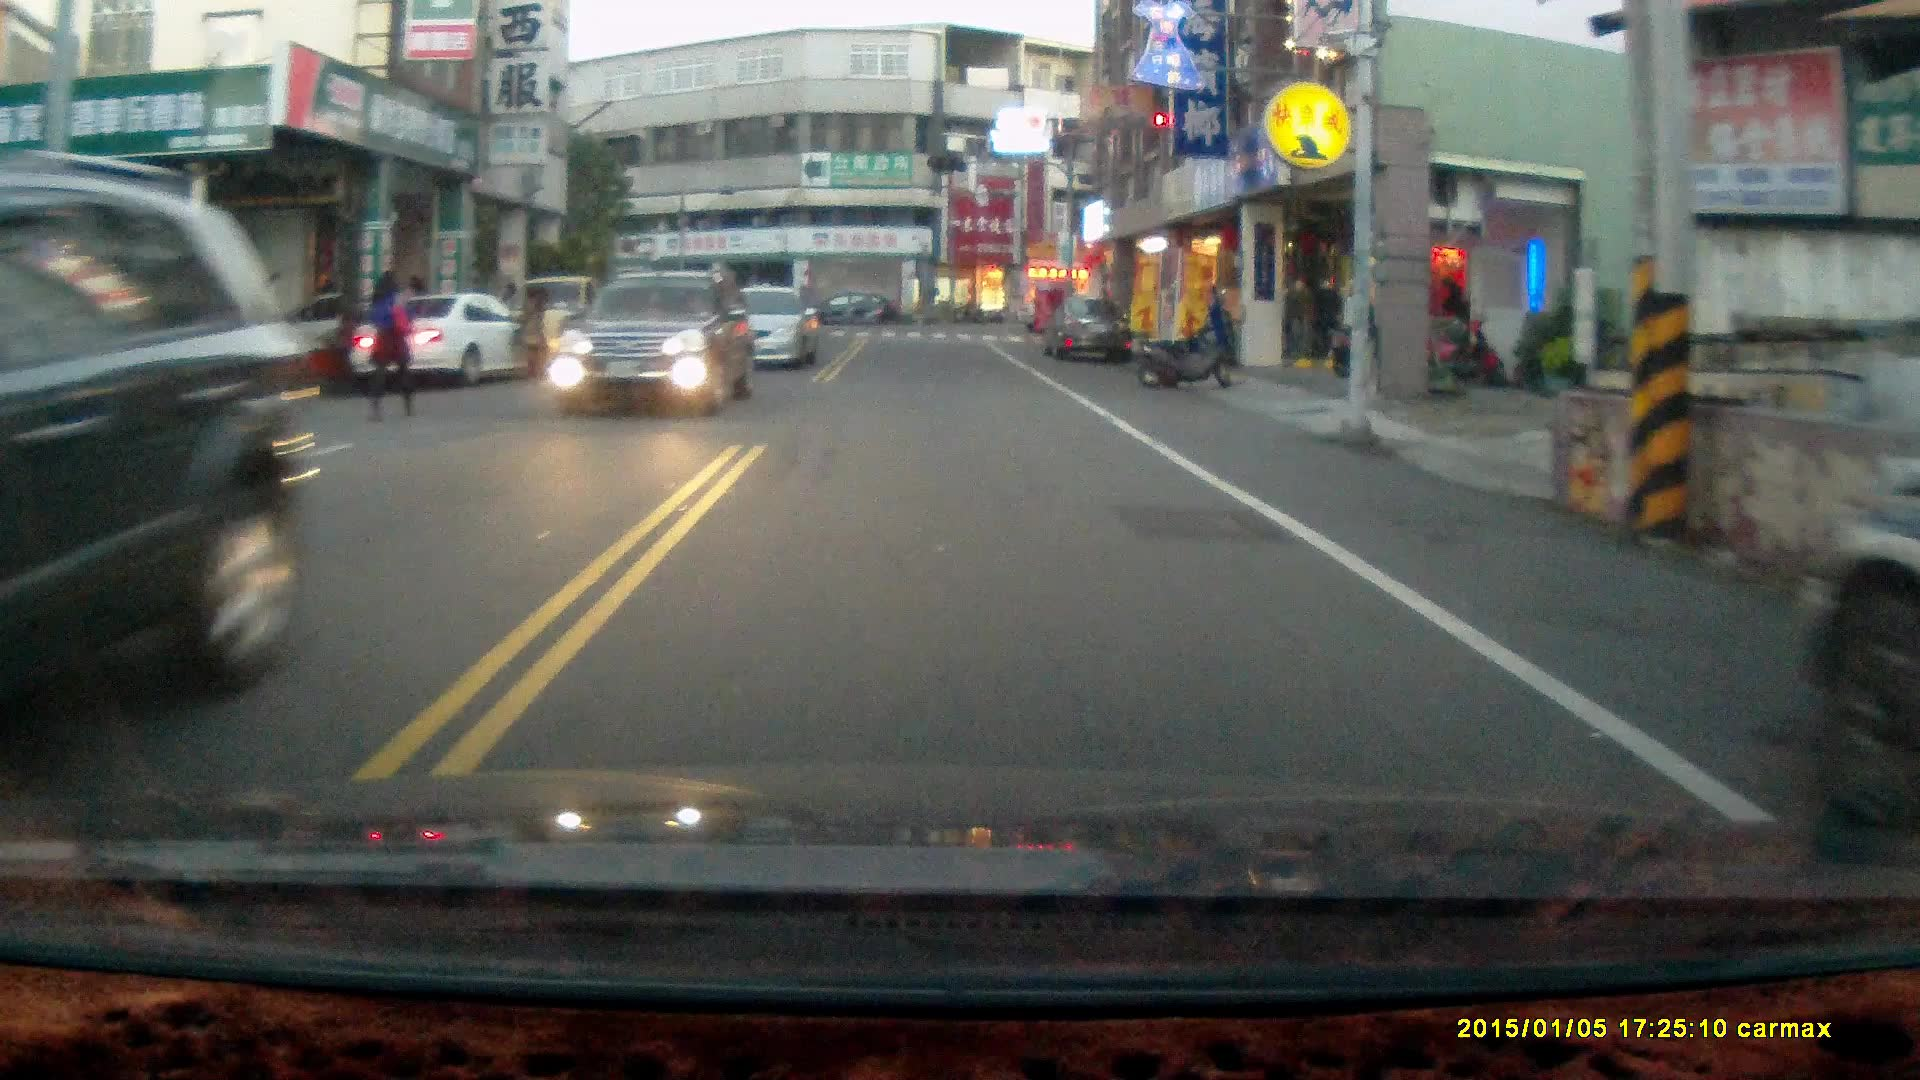pedestrian: (367, 267, 411, 423), (507, 279, 545, 380)
vehicle: (1, 146, 315, 698), (563, 265, 760, 415), (352, 290, 554, 390), (699, 281, 824, 368), (1045, 296, 1138, 367), (803, 290, 908, 329)
